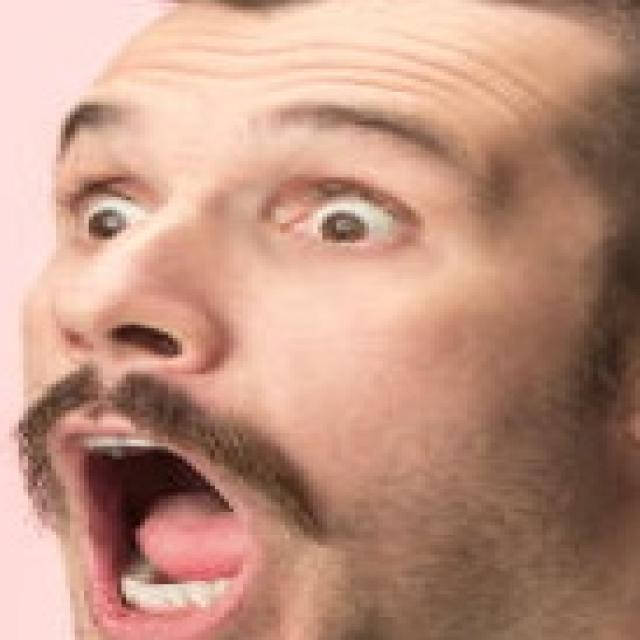Anxiety: (7, 0, 621, 637)
